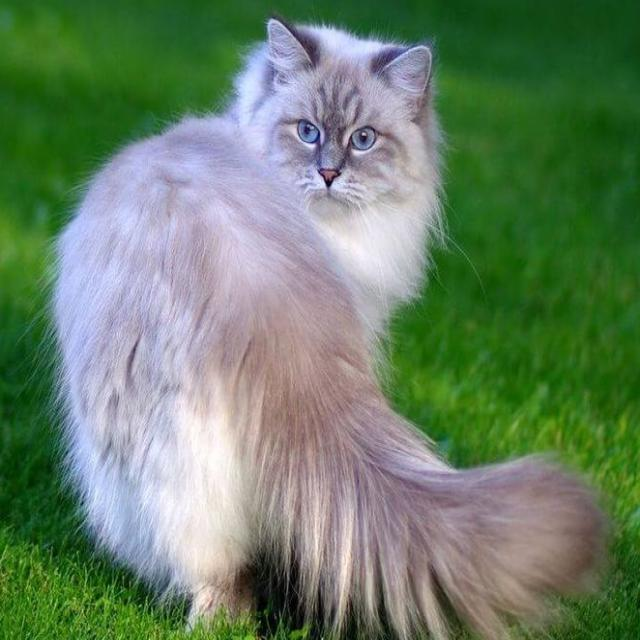Neva Masquerade: (47, 11, 610, 640)
